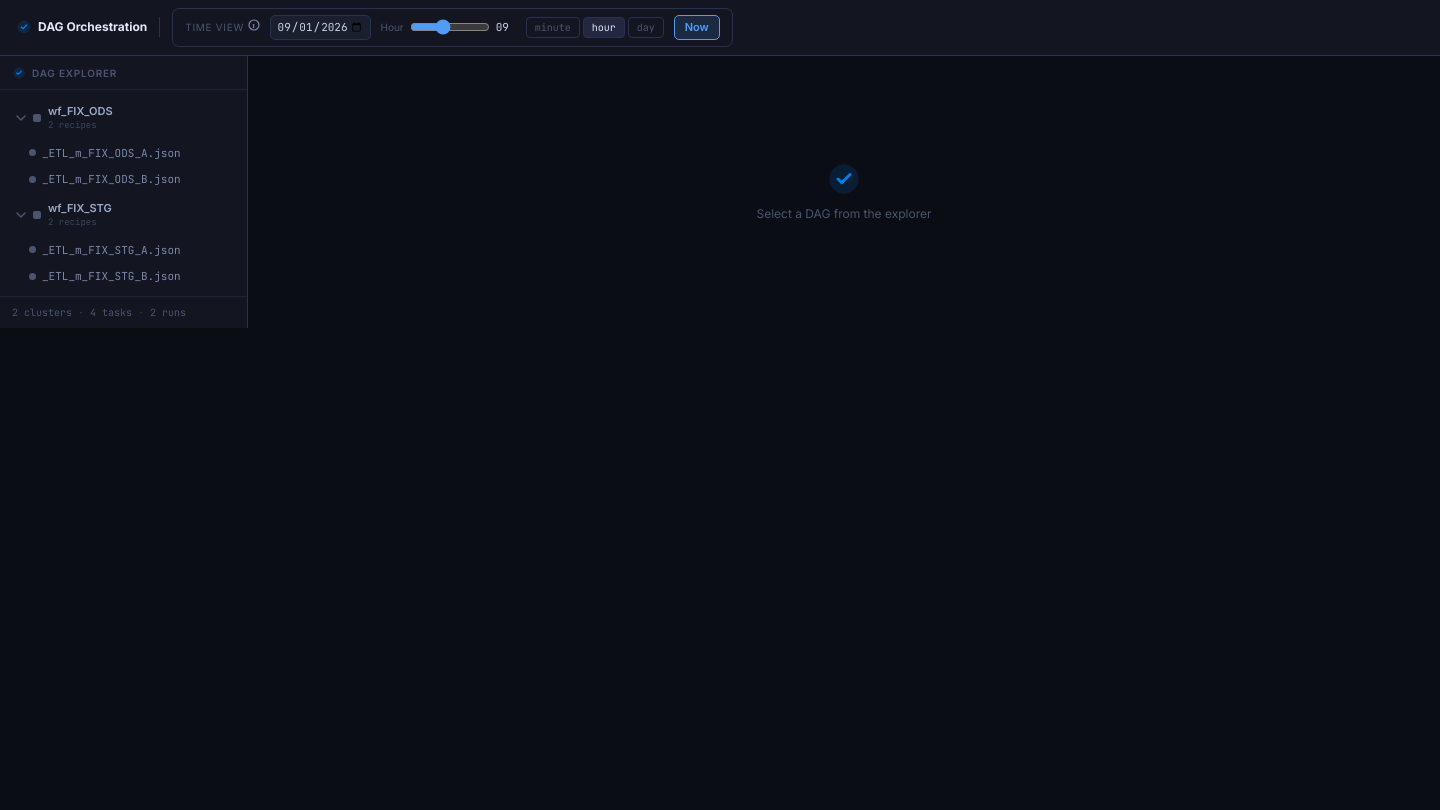
ETLDag — real run selector, per-date coloring, GCP links, replay-mock › (e) replay stays mock: confirming shows the success toast
This screenshot has width=1440, height=810.
Click the text "wf_FIX_ODS".
click(80, 110)  # box x1=48 y1=104 x2=113 y2=118
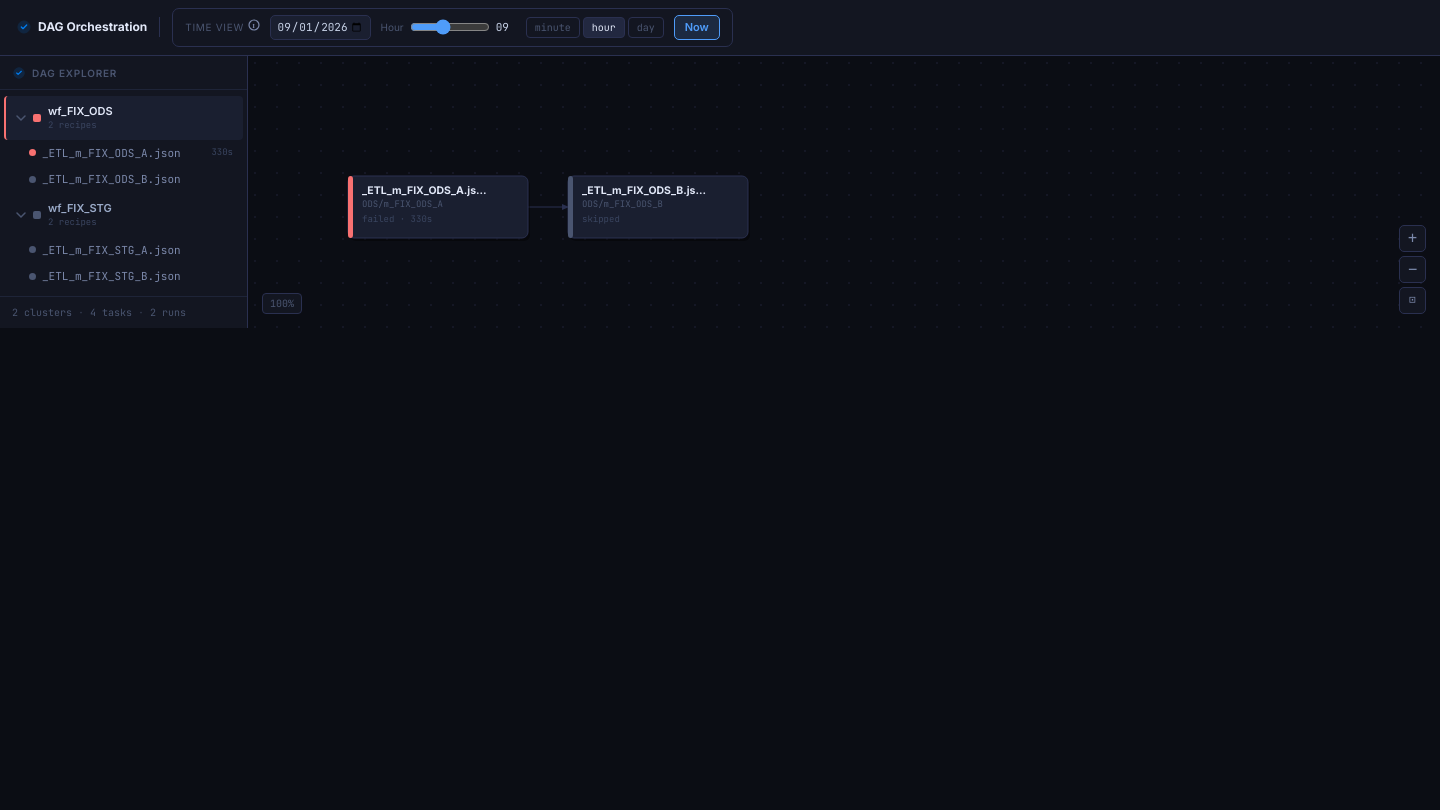
Click the text "_ETL_m_FIX_ODS_A.json".
click(111, 152)  # box x1=42 y1=146 x2=181 y2=160
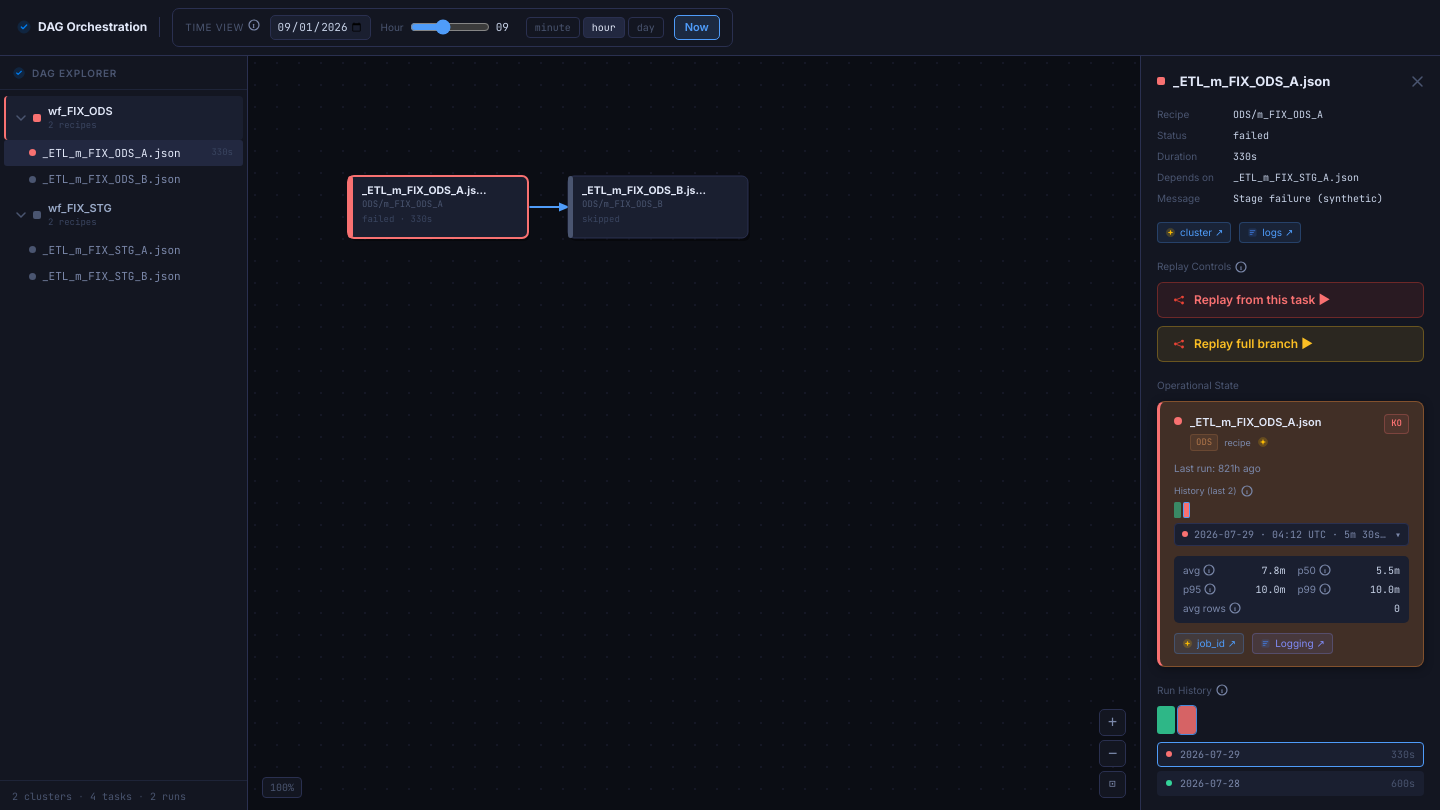
Click the button "Replay from this task ▶".
click(1290, 300)  # box x1=1157 y1=282 x2=1424 y2=318
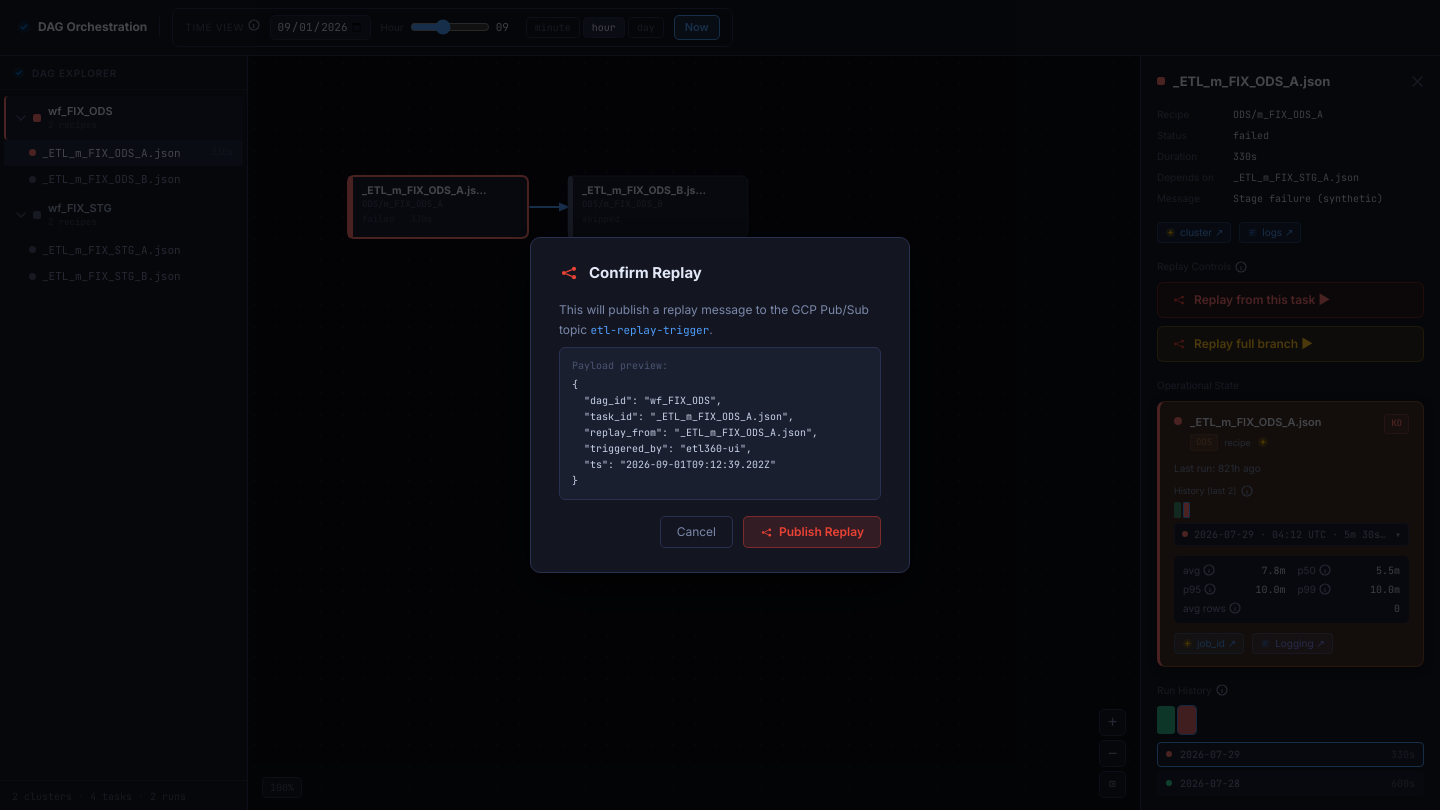
Click the button "Publish Replay".
click(812, 532)  # box x1=743 y1=516 x2=881 y2=548
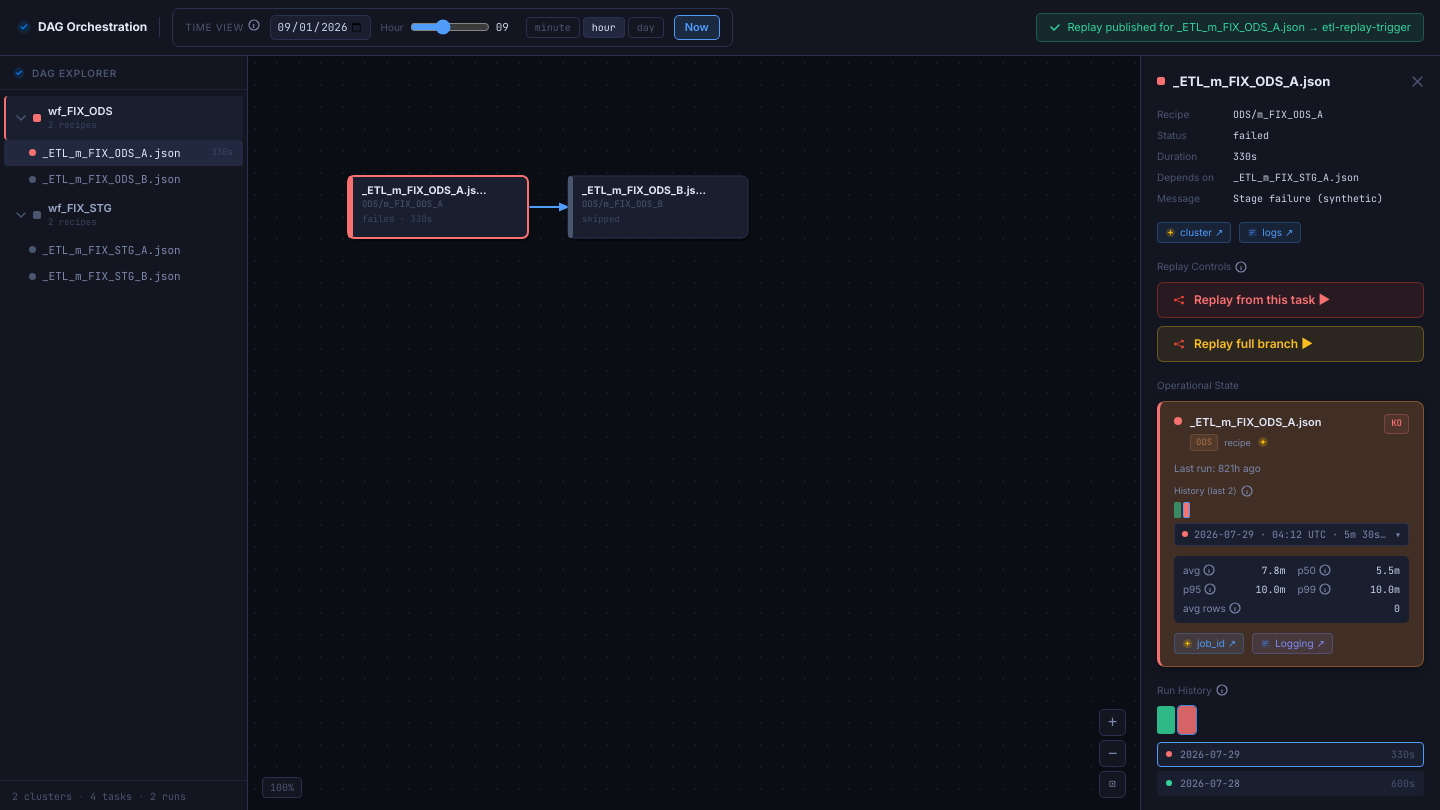
Expected: the text "Replay published for" is shown, x1=1068 y1=20 x2=1411 y2=34
